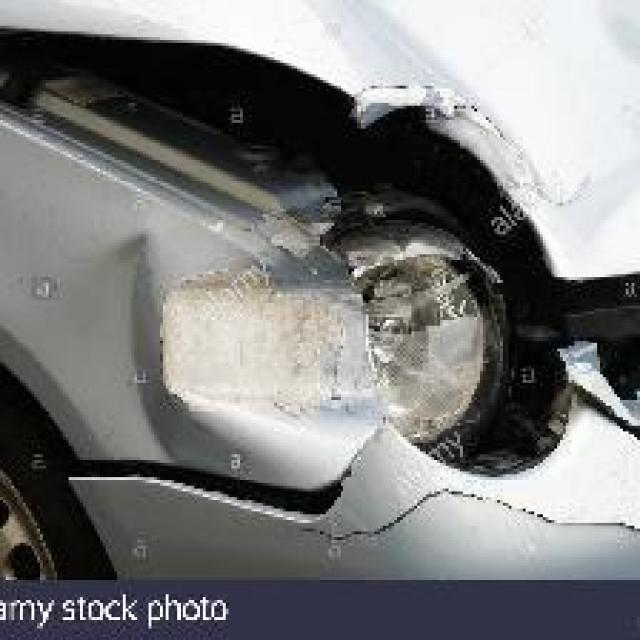damaged: (132, 177, 637, 580), (8, 9, 626, 178)
